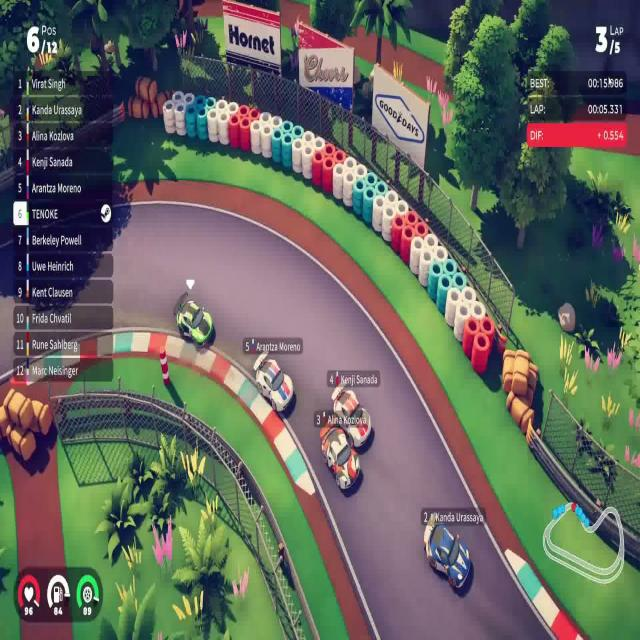car: (423, 511, 471, 591), (319, 419, 360, 492), (331, 381, 374, 448), (253, 354, 294, 414), (175, 296, 214, 348)
